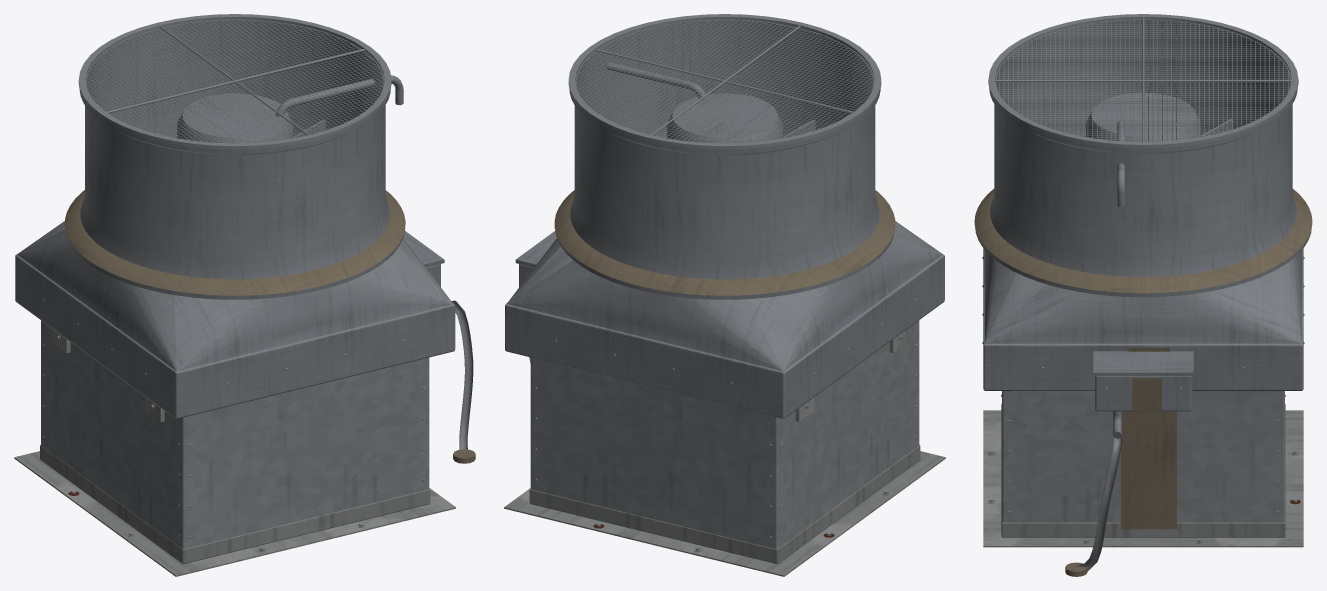
File: upblast_fan.glb
3 views of the same model, side by side, from view 1: azimuth 30°, elevation 25°; view 2: azimuth 150°, elevation 25°; view 3: azimuth 270°, elevation 25° (orthographic).
Parts seen in each view (by area): view 1: part_windband_LOD0, part_curb_LOD0, part_base_LOD0, part_screen_LOD0, part_grease_box_LOD0; view 2: part_windband_LOD0, part_curb_LOD0, part_base_LOD0, part_screen_LOD0, part_grease_box_LOD0; view 3: part_windband_LOD0, part_curb_LOD0, part_base_LOD0, part_screen_LOD0, part_grease_box_LOD0.
Part boxes in pixels (x1,y1,x2,y2): part_windband_LOD0: [64, 19, 405, 299]; part_curb_LOD0: [14, 320, 455, 576]; part_base_LOD0: [15, 221, 455, 418]; part_screen_LOD0: [78, 14, 391, 149]; part_grease_box_LOD0: [403, 231, 475, 463]; part_windband_LOD0: [554, 19, 895, 299]; part_curb_LOD0: [504, 320, 945, 576]; part_base_LOD0: [505, 221, 944, 418]; part_screen_LOD0: [568, 14, 881, 149]; part_grease_box_LOD0: [515, 231, 556, 362]; part_windband_LOD0: [974, 19, 1312, 297]; part_curb_LOD0: [983, 391, 1303, 547]; part_base_LOD0: [982, 248, 1304, 390]; part_screen_LOD0: [988, 14, 1298, 148]; part_grease_box_LOD0: [1065, 351, 1193, 576].
Size of what is drawn, in the model's own units: 1.13 by 1.18 by 0.907.
9 materials, 9 textured.
